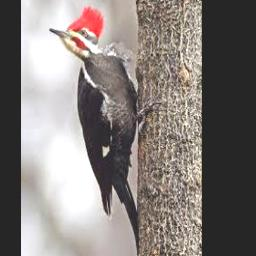Woodpecker: (50, 7, 161, 256)
